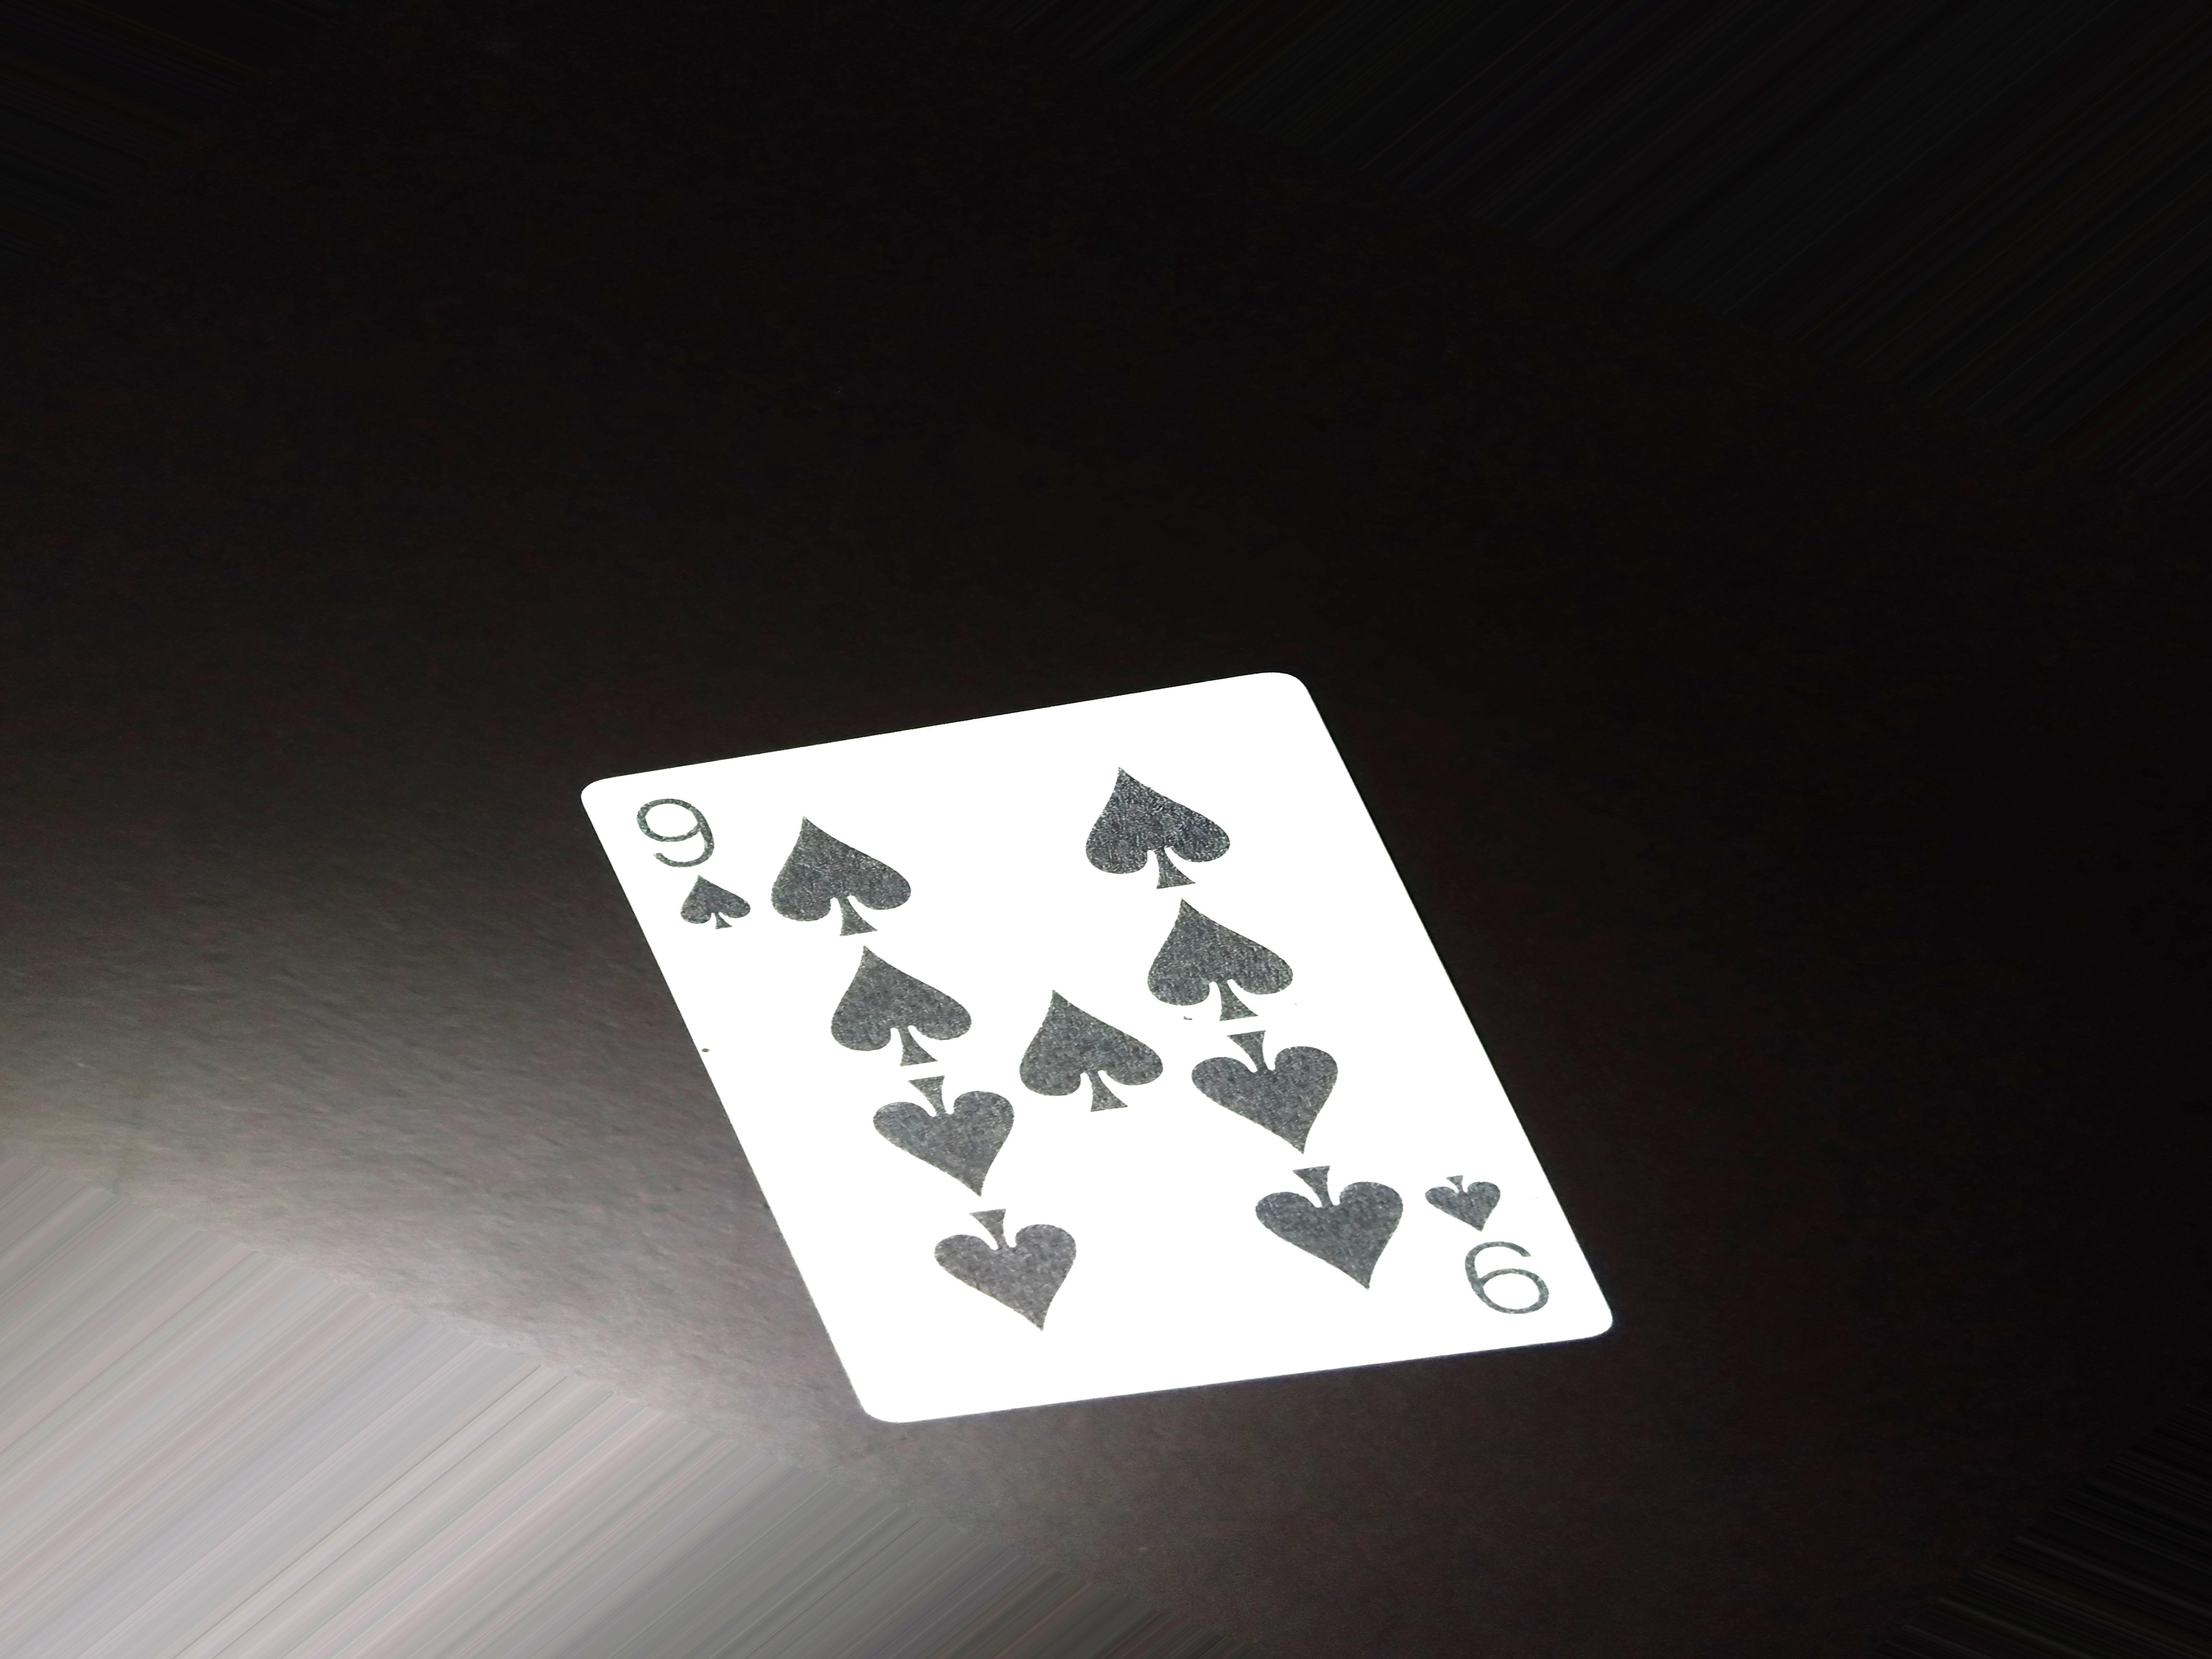9S: (625, 784, 754, 943)
